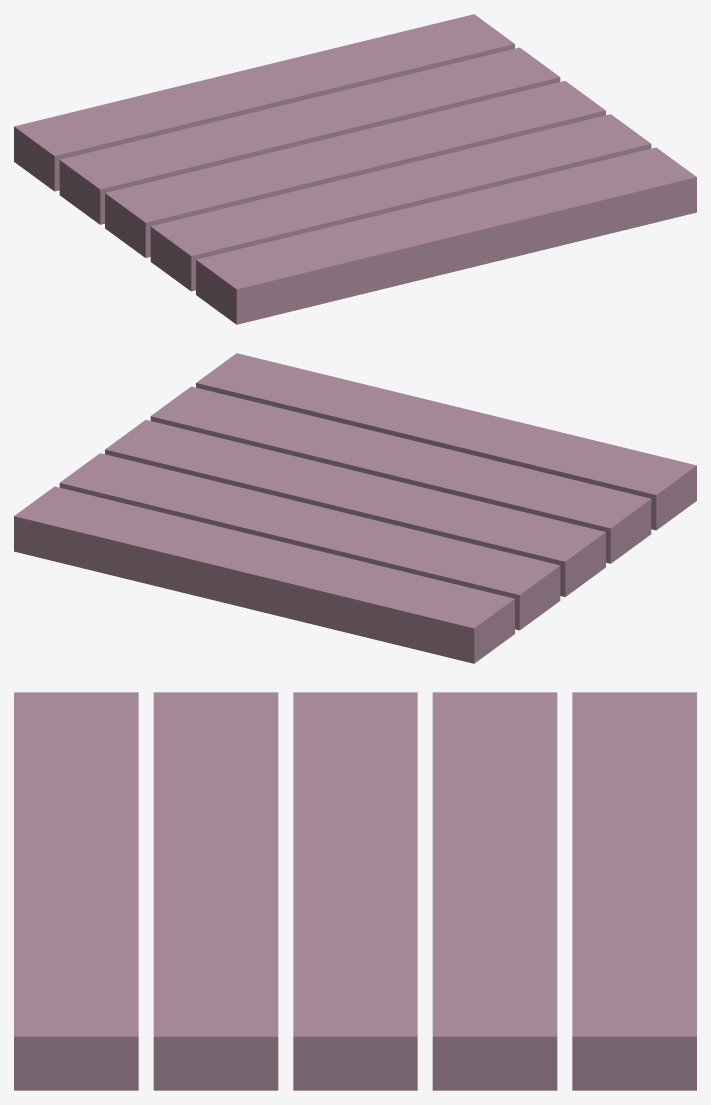
Rendered from board.obj.
3 renders of one model, top to bottom at view 1: azimuth 30°, elevation 25°; view 2: azimuth 150°, elevation 25°; view 3: azimuth 270°, elevation 25°, orthographic. The views are drawn at different scales.
Visible parts, largest first — view 1: 立方体.006; view 2: 立方体.006; view 3: 立方体.006.
Boxes of the visible parts, x1,y1,x2,y2 form: 立方体.006: [14, 14, 696, 324]; 立方体.006: [14, 353, 696, 663]; 立方体.006: [14, 692, 696, 1090].
Bounding box in the file's own units: 1.37 × 0.101 × 1.15.
Materials: 1 (1 with a texture image).
